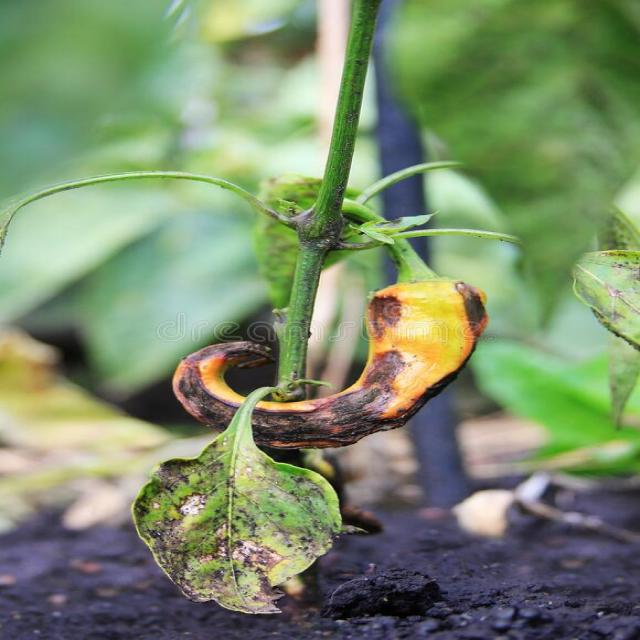Chili_anthracnose: (153, 190, 524, 462)
